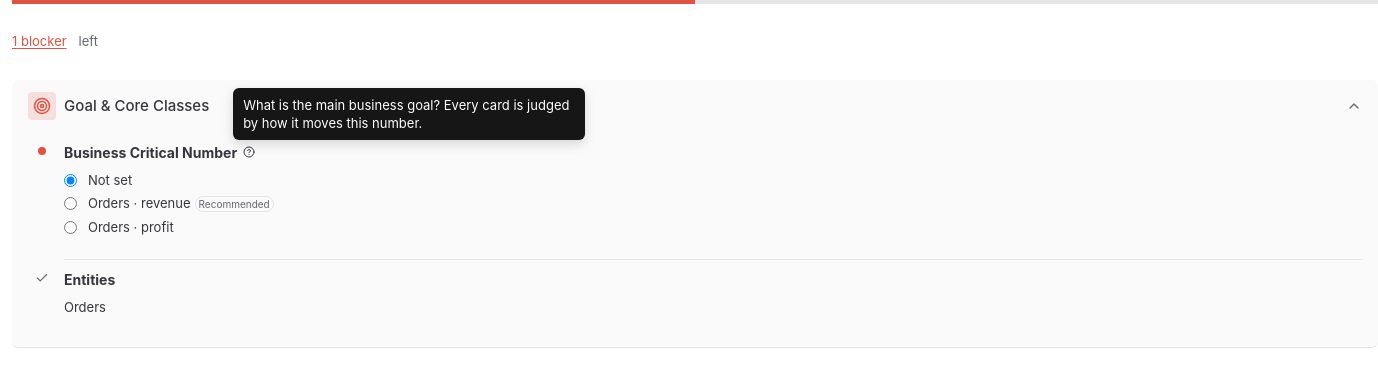
Test: tooltips › every (?) starts closed, opens on click, closes on a second click, Escape or a click outside
Earlier steps of the test are not shown.
Press the mouse on the element that starts with "blocker": (695, 174) [12, 0, 1377, 348]
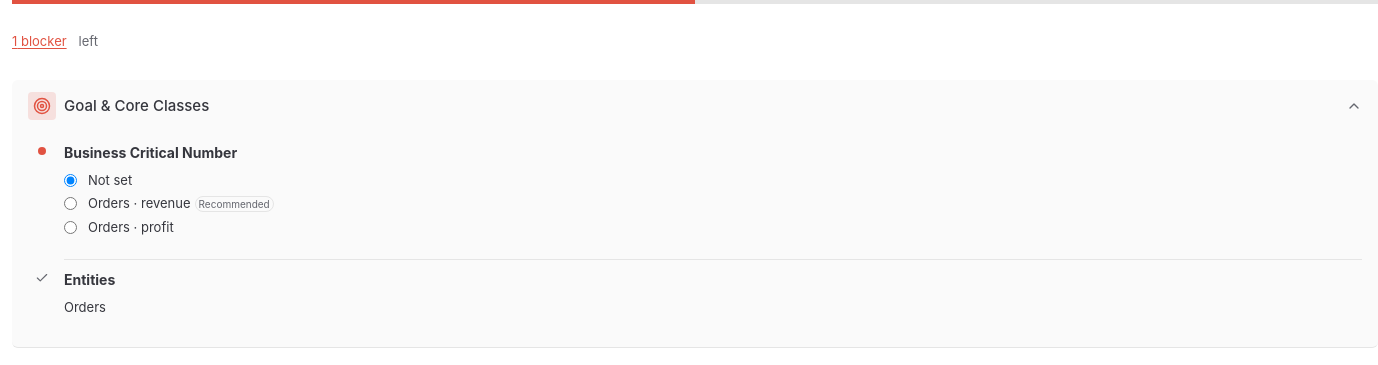
Now the tooltip is gone
